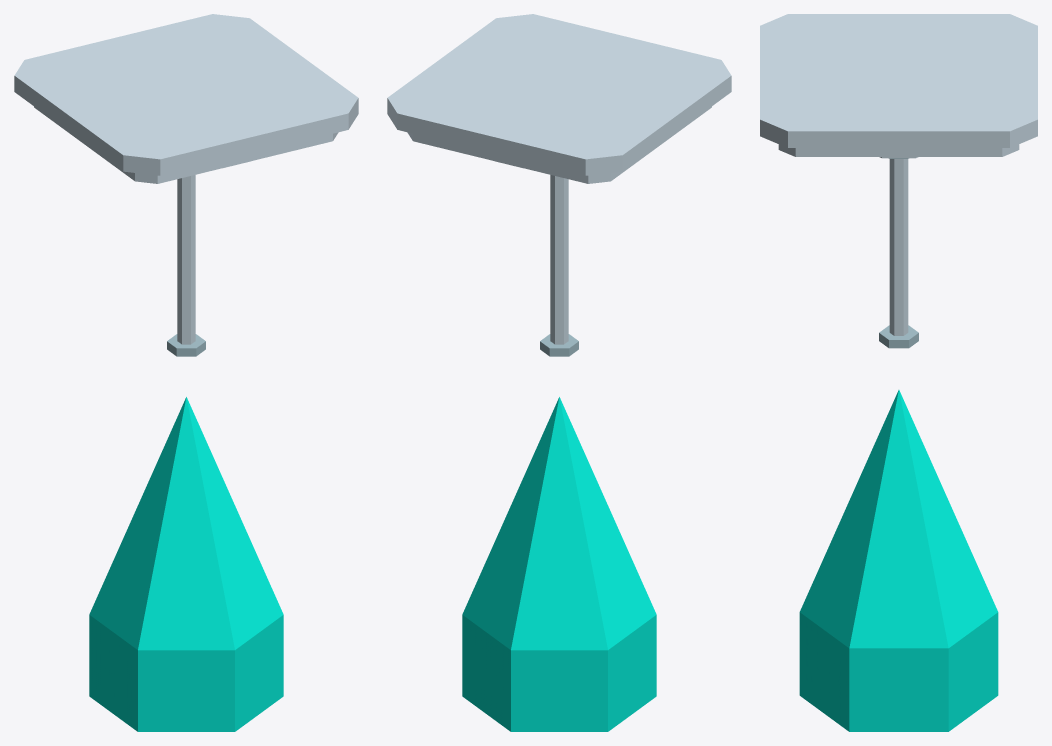
File: lamp-07.fbx
3 renders of one model, left to right at view 1: azimuth 30°, elevation 25°; view 2: azimuth 150°, elevation 25°; view 3: azimuth 270°, elevation 25°, orthographic. The views are drawn at different scales.
Parts seen in each view (by area): view 1: lamp-07-lamp, lamp-07; view 2: lamp-07-lamp, lamp-07; view 3: lamp-07-lamp, lamp-07.
Boxes of the visible parts, left/top/right/bottom form: lamp-07-lamp: left=89, top=397, right=283, bottom=731; lamp-07: left=14, top=14, right=358, bottom=356; lamp-07-lamp: left=462, top=397, right=656, bottom=731; lamp-07: left=387, top=14, right=731, bottom=356; lamp-07-lamp: left=799, top=390, right=998, bottom=731; lamp-07: left=760, top=14, right=1037, bottom=348.
Bounding box in the file's own units: 18 × 44.56 × 18.
